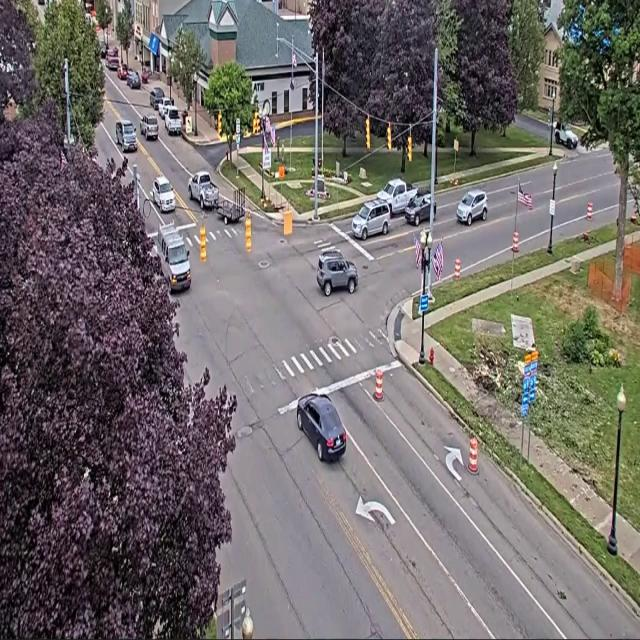car: (297, 393, 346, 461), (317, 250, 357, 295), (352, 199, 390, 240), (457, 189, 487, 225), (405, 191, 431, 225), (152, 176, 175, 212), (116, 120, 137, 151), (164, 105, 181, 135), (140, 112, 158, 140), (158, 96, 173, 119), (150, 87, 164, 111), (127, 71, 141, 88), (106, 53, 119, 71), (140, 66, 150, 84), (117, 64, 128, 79), (100, 40, 107, 59), (107, 47, 118, 57)
traffic signal: (245, 213, 251, 252), (200, 224, 206, 262), (253, 112, 259, 135), (366, 117, 370, 150), (408, 136, 412, 162), (387, 125, 391, 150), (217, 112, 221, 135)
truck: (155, 222, 190, 293), (377, 179, 417, 216), (188, 171, 218, 209), (554, 121, 579, 149), (164, 106, 181, 135)
